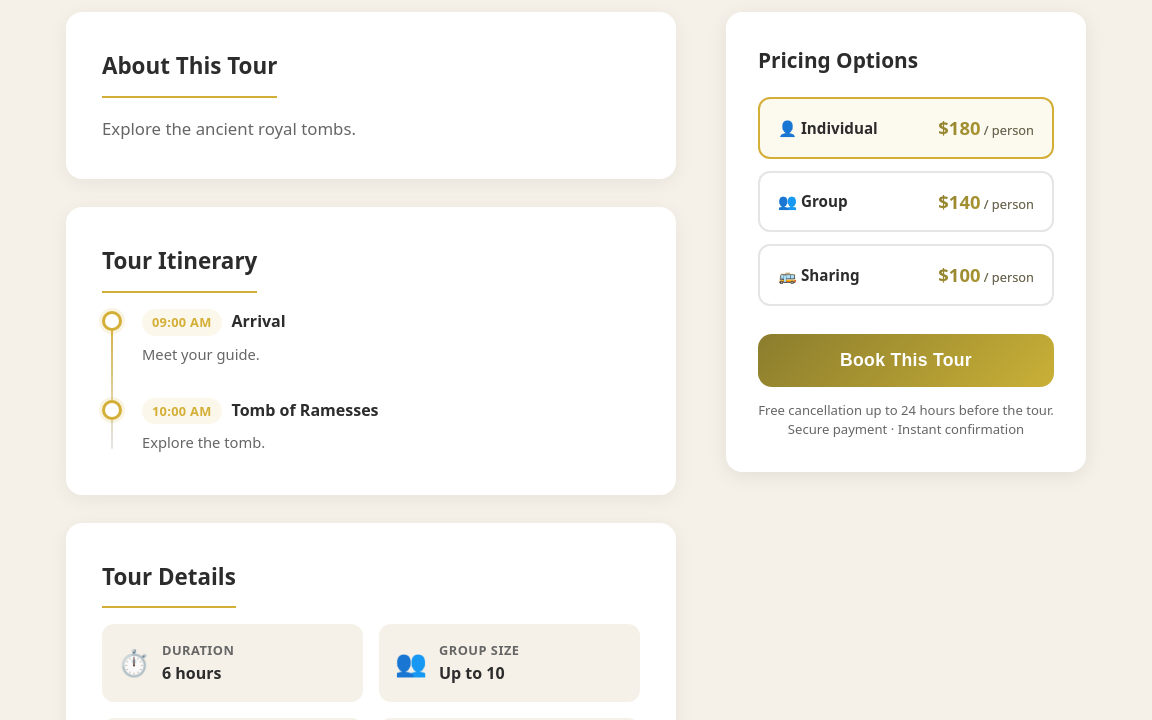
Test: TourDetail › opens the booking modal when Book This Tour is clicked
The width and height of the screenshot is (1152, 720).
(page scrolled)
Click the button "Book This Tour" at (906, 360), box [758, 334, 1054, 387]
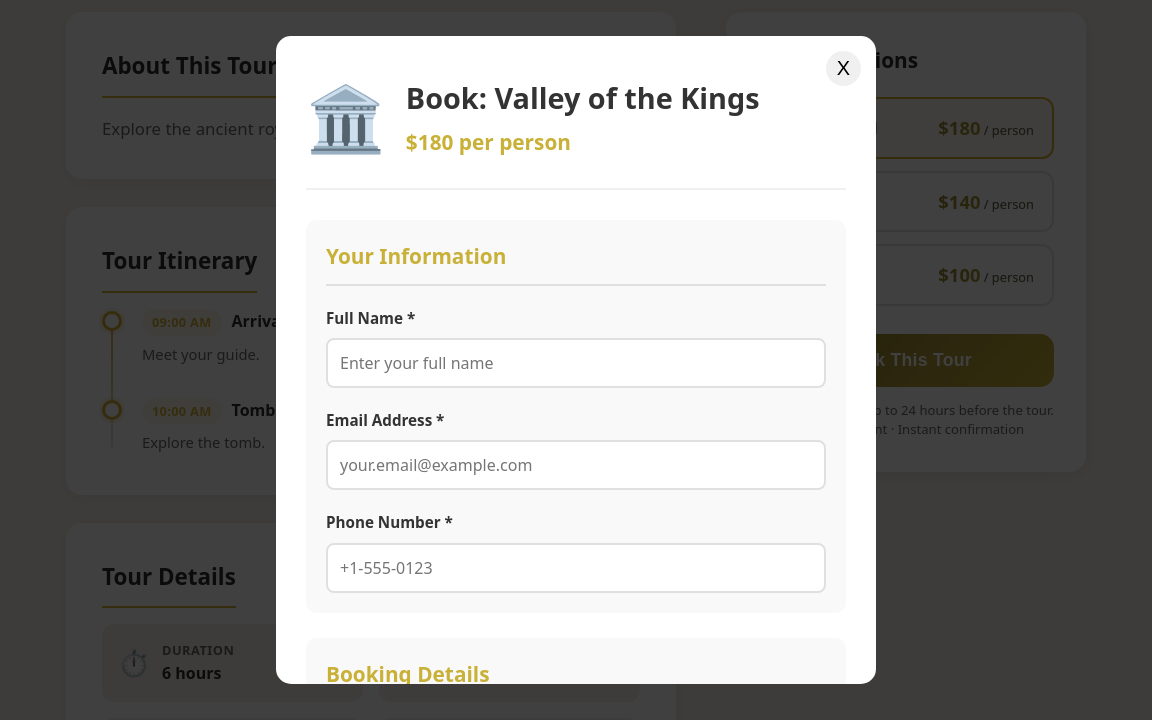
Result: the heading "Book: Valley of the Kings" is shown at [406, 75, 760, 121]
